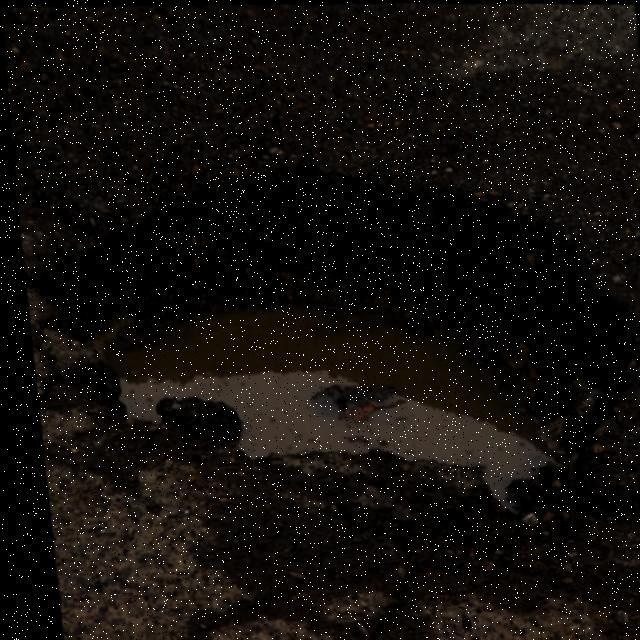pothole: (35, 157, 640, 530)
